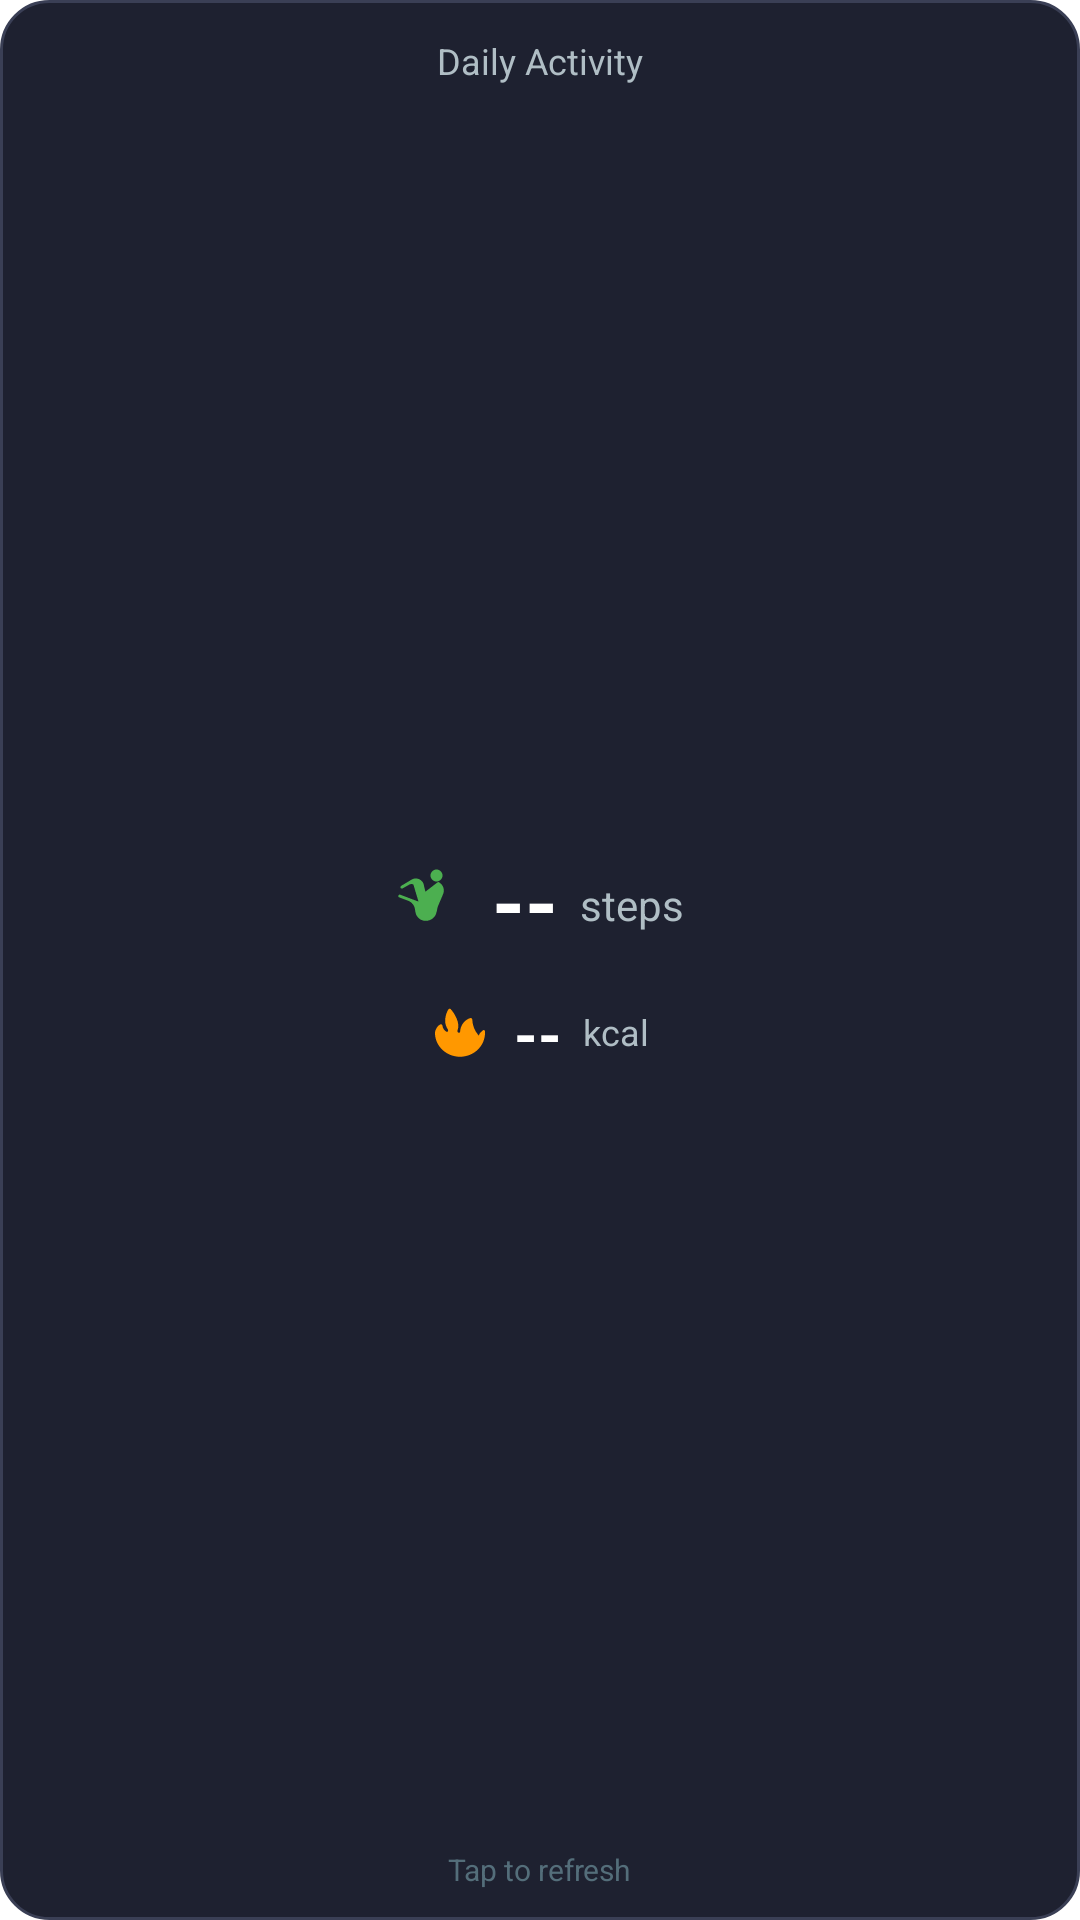

Locate icon controls on the screen. Image size 1080w x 1920h, boxes as bbox=[x1, y1, x2, y2].
widget fire: bbox=[435, 1008, 485, 1057]
